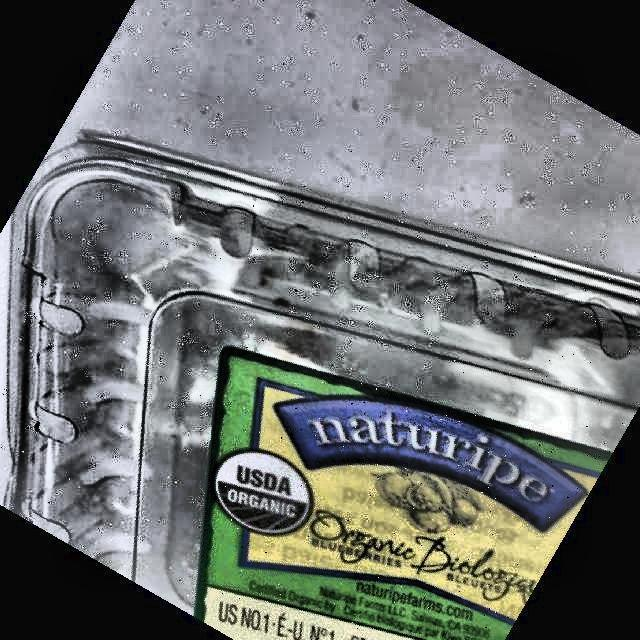plastic: (5, 136, 640, 640)
